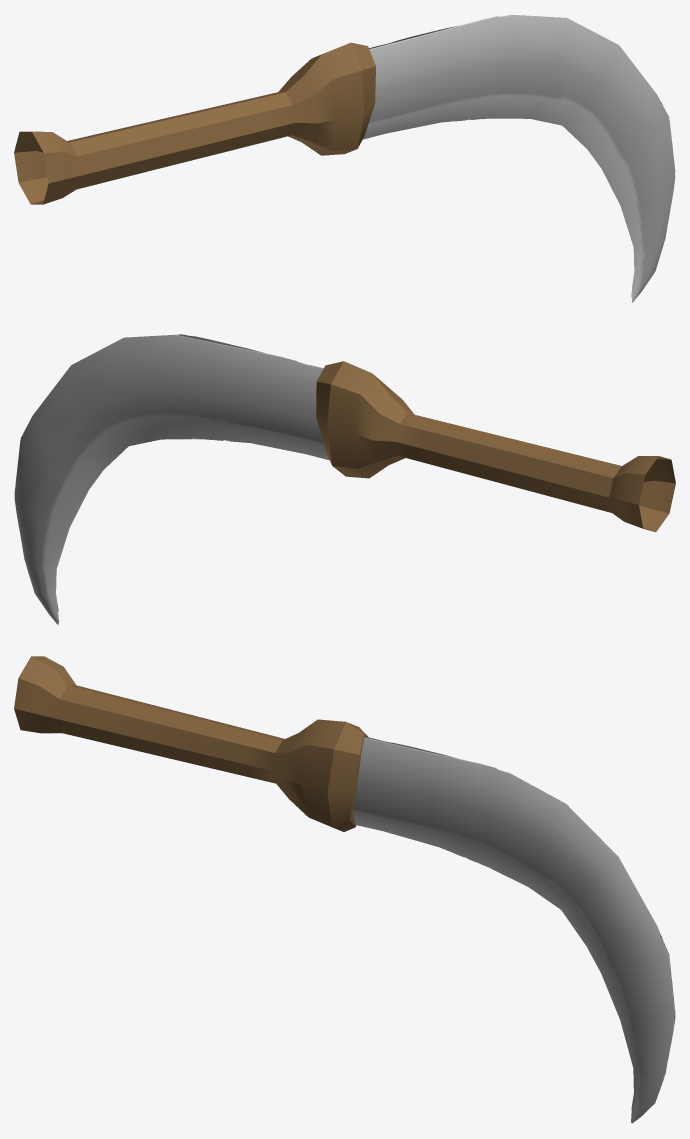
Rendered from Right.Arm.fbx.
3 views of the same model, one above another, from view 1: azimuth 30°, elevation 25°; view 2: azimuth 150°, elevation 25°; view 3: azimuth 330°, elevation 25° (orthographic).
Parts seen in each view (by area): view 1: Right.Arm; view 2: Right.Arm; view 3: Right.Arm.
Boxes of the visible parts, x1,y1,x2,y2 form: Right.Arm: (14,14,675,302); Right.Arm: (14,334,675,624); Right.Arm: (14,656,675,1123).
Bounding box in the file's own units: 1.56 × 0.7717 × 0.1608.
